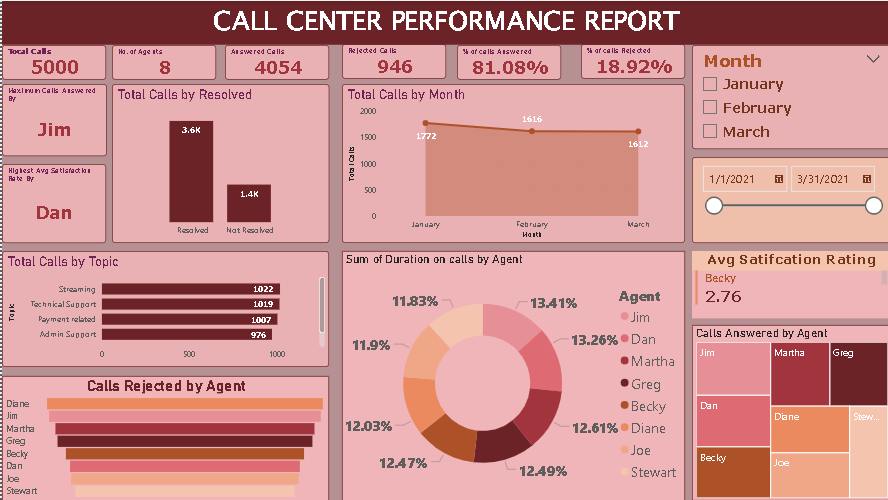

This screenshot's page, from the dashboard's own definition file:
{"tool":"powerbi","page":{"name":"Report","canvas":[1280,720],"ordinal":0},"visuals":[{"type":"card","title":"Total Calls","fields":{"Values":["Call Center Trends.Total Calls"]},"box":[0,63.4,150,50],"z":0},{"type":"card","title":"No. of Agents","fields":{"Values":["Call Center Trends.Agent"]},"box":[158.4,63.4,149.8,50.4],"z":1000},{"type":"card","title":"Answered Calls","fields":{"Values":["Call Center Trends.Calls Answered"]},"box":[321.1,63.4,149.8,50.4],"z":2000},{"type":"card","title":"Rejected Calls","fields":{"Values":["Call Center Trends.Calls Rejected"]},"box":[489.6,61.9,149.8,50.4],"z":3000},{"type":"card","title":"% of calls Answered","fields":{"Values":["Call Center Trends.% calls answered"]},"box":[655.2,63.4,149.8,50.4],"z":4000},{"type":"card","title":"% of calls Rejected","fields":{"Values":["Call Center Trends.% calls rejected"]},"box":[833.8,61.9,149.8,50.4],"z":5000},{"type":"columnChart","fields":{"Y":["Call Center Trends.Total Calls"],"Category":["Call Center Trends.Resolved"]},"box":[158.6,120,312.9,228.6],"z":6000},{"type":"card","title":"Maximum Calls Answered By","fields":{"Values":["Call Center Trends.Agent"]},"box":[0,120,151.4,104.3],"z":7000},{"type":"card","title":"Highest Avg Satisfaction Rate By","fields":{"Values":["Call Center Trends.Agent"]},"box":[0,234.3,150,114.3],"z":8000},{"type":"barChart","fields":{"Category":["Call Center Trends.Topic"],"Y":["Call Center Trends.Total Calls"]},"box":[0,360,471.4,167.1],"z":9000},{"type":"donutChart","fields":{"Category":["Call Center Trends.Agent"],"Y":["Call Center Trends.Duration on calls"]},"box":[490,360,494.3,360],"z":10000},{"type":"areaChart","fields":{"Y":["Call Center Trends.Total Calls"],"Category":["Call Center Trends.Date.Variation.Date Hierarchy.Month"]},"box":[490,120,494.3,228.6],"z":11000},{"type":"slicer","fields":{"Values":["Call Center Trends.Date.Variation.Date Hierarchy.Month"]},"box":[994.3,62.9,285.7,150],"z":12000},{"type":"slicer","fields":{"Values":["Call Center Trends.Date"]},"box":[994.3,224.3,285.7,124.3],"z":13000},{"type":"multiRowCard","title":"Avg Satifcation Rating","fields":{"Values":["Call Center Trends.Agent","Call Center Trends.Satisfaction rating"]},"box":[994.3,360,285.7,97.1],"z":14000},{"type":"treemap","title":"Calls Answered by Agent","fields":{"Group":["Call Center Trends.Agent"],"Values":["Call Center Trends.Calls Answered"]},"box":[994.3,467.1,285.7,252.9],"z":15000},{"type":"funnel","title":"Calls Rejected by Agent","fields":{"Category":["Call Center Trends.Agent"],"Y":["Call Center Trends.Calls Rejected"]},"box":[0,540,471.4,180],"z":16000},{"type":"textbox","box":[0,0,1280,62.5],"z":17000}]}

Visuals, with their boxes in screenshot pixels (x1, y1, x2, y2), scaled from the page's 1280x720 canvas onto the 888x500 screenshot:
"Total Calls" card: (x1=0, y1=44, x2=104, y2=79)
"No. of Agents" card: (x1=110, y1=44, x2=214, y2=79)
"Answered Calls" card: (x1=223, y1=44, x2=327, y2=79)
"Rejected Calls" card: (x1=340, y1=43, x2=444, y2=78)
"% of calls Answered" card: (x1=455, y1=44, x2=558, y2=79)
"% of calls Rejected" card: (x1=578, y1=43, x2=682, y2=78)
columnChart - Call Center Trends.Total Calls x Call Center Trends.Resolved: (x1=110, y1=83, x2=327, y2=242)
"Maximum Calls Answered By" card: (x1=0, y1=83, x2=105, y2=156)
"Highest Avg Satisfaction Rate By" card: (x1=0, y1=163, x2=104, y2=242)
barChart - Call Center Trends.Topic x Call Center Trends.Total Calls: (x1=0, y1=250, x2=327, y2=366)
donutChart - Call Center Trends.Agent x Call Center Trends.Duration on calls: (x1=340, y1=250, x2=683, y2=499)
areaChart - Call Center Trends.Total Calls x Call Center Trends.Date.Variation.Date Hierarchy.Month: (x1=340, y1=83, x2=683, y2=242)
slicer - Call Center Trends.Date.Variation.Date Hierarchy.Month: (x1=690, y1=44, x2=887, y2=148)
slicer - Call Center Trends.Date: (x1=690, y1=156, x2=887, y2=242)
"Avg Satifcation Rating" multiRowCard: (x1=690, y1=250, x2=887, y2=317)
"Calls Answered by Agent" treemap: (x1=690, y1=324, x2=887, y2=499)
"Calls Rejected by Agent" funnel: (x1=0, y1=375, x2=327, y2=499)
textbox: (x1=0, y1=0, x2=887, y2=43)
